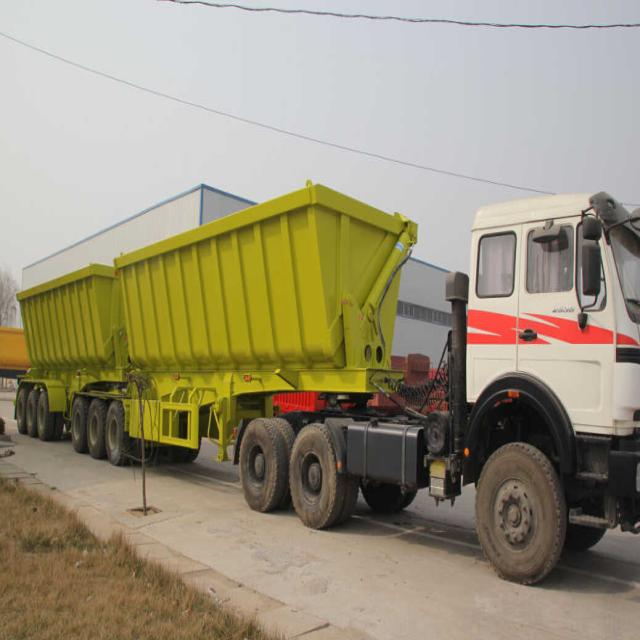overloaded_truck: (10, 178, 638, 585)
